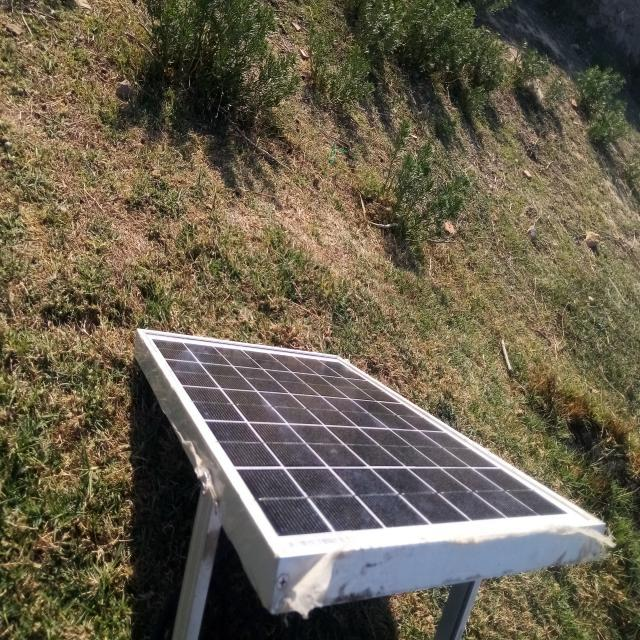no faulty: (141, 329, 602, 562)
